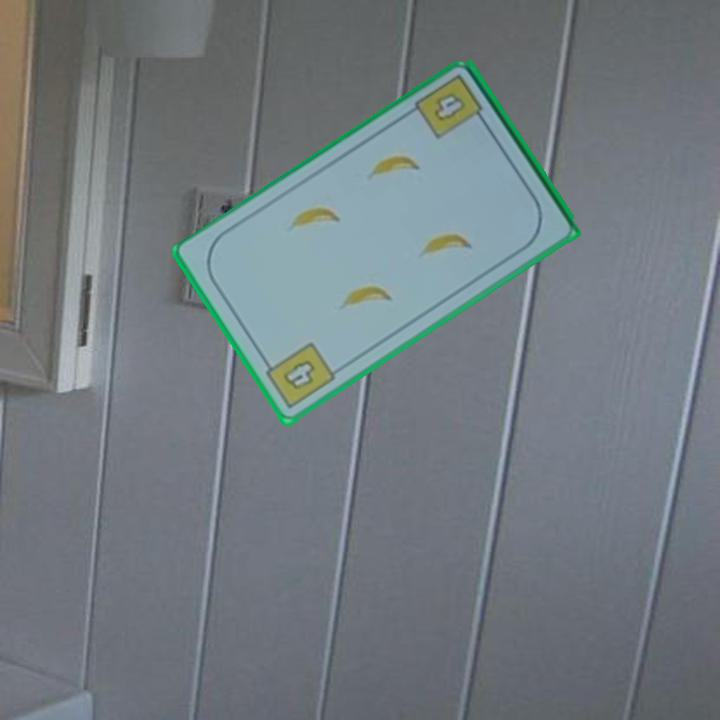4b: (259, 338, 339, 412), (411, 71, 491, 143)
